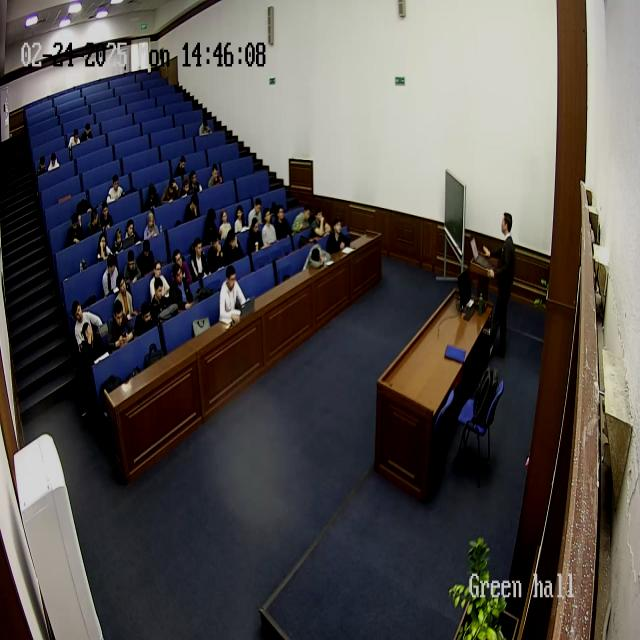person: (480, 211, 517, 361), (76, 318, 108, 420), (218, 263, 248, 326), (71, 299, 103, 353), (106, 299, 134, 353), (169, 258, 194, 311), (149, 275, 172, 321), (148, 257, 170, 303), (133, 298, 158, 338), (115, 273, 135, 321), (222, 224, 244, 265), (170, 248, 192, 289), (102, 253, 121, 298), (327, 216, 350, 253), (190, 236, 208, 282), (208, 228, 226, 273), (136, 238, 156, 276), (274, 203, 293, 241), (261, 207, 278, 248), (291, 202, 311, 236), (309, 208, 329, 241), (124, 248, 142, 284), (66, 212, 84, 247), (306, 243, 330, 269), (204, 208, 221, 244), (248, 215, 264, 253), (105, 173, 125, 203), (142, 211, 160, 241), (184, 192, 202, 222), (218, 207, 234, 239), (247, 196, 263, 228), (96, 232, 112, 264), (161, 178, 179, 205), (86, 207, 102, 237), (146, 182, 162, 212), (124, 219, 140, 248), (99, 202, 114, 232), (234, 204, 248, 236), (112, 226, 126, 257), (187, 170, 202, 196), (172, 156, 189, 177), (67, 128, 81, 152), (178, 175, 192, 198), (208, 164, 222, 186), (80, 122, 94, 144), (198, 117, 212, 138), (36, 155, 48, 177), (48, 152, 60, 172)
